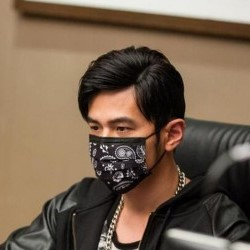mask: (78, 130, 160, 196)
